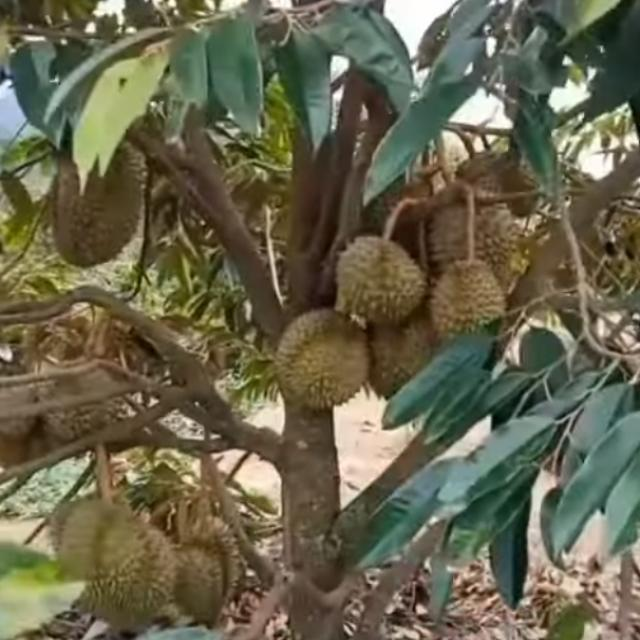mature: (44, 113, 148, 274), (73, 516, 180, 640), (275, 303, 375, 409), (336, 228, 424, 331), (424, 254, 509, 357)
